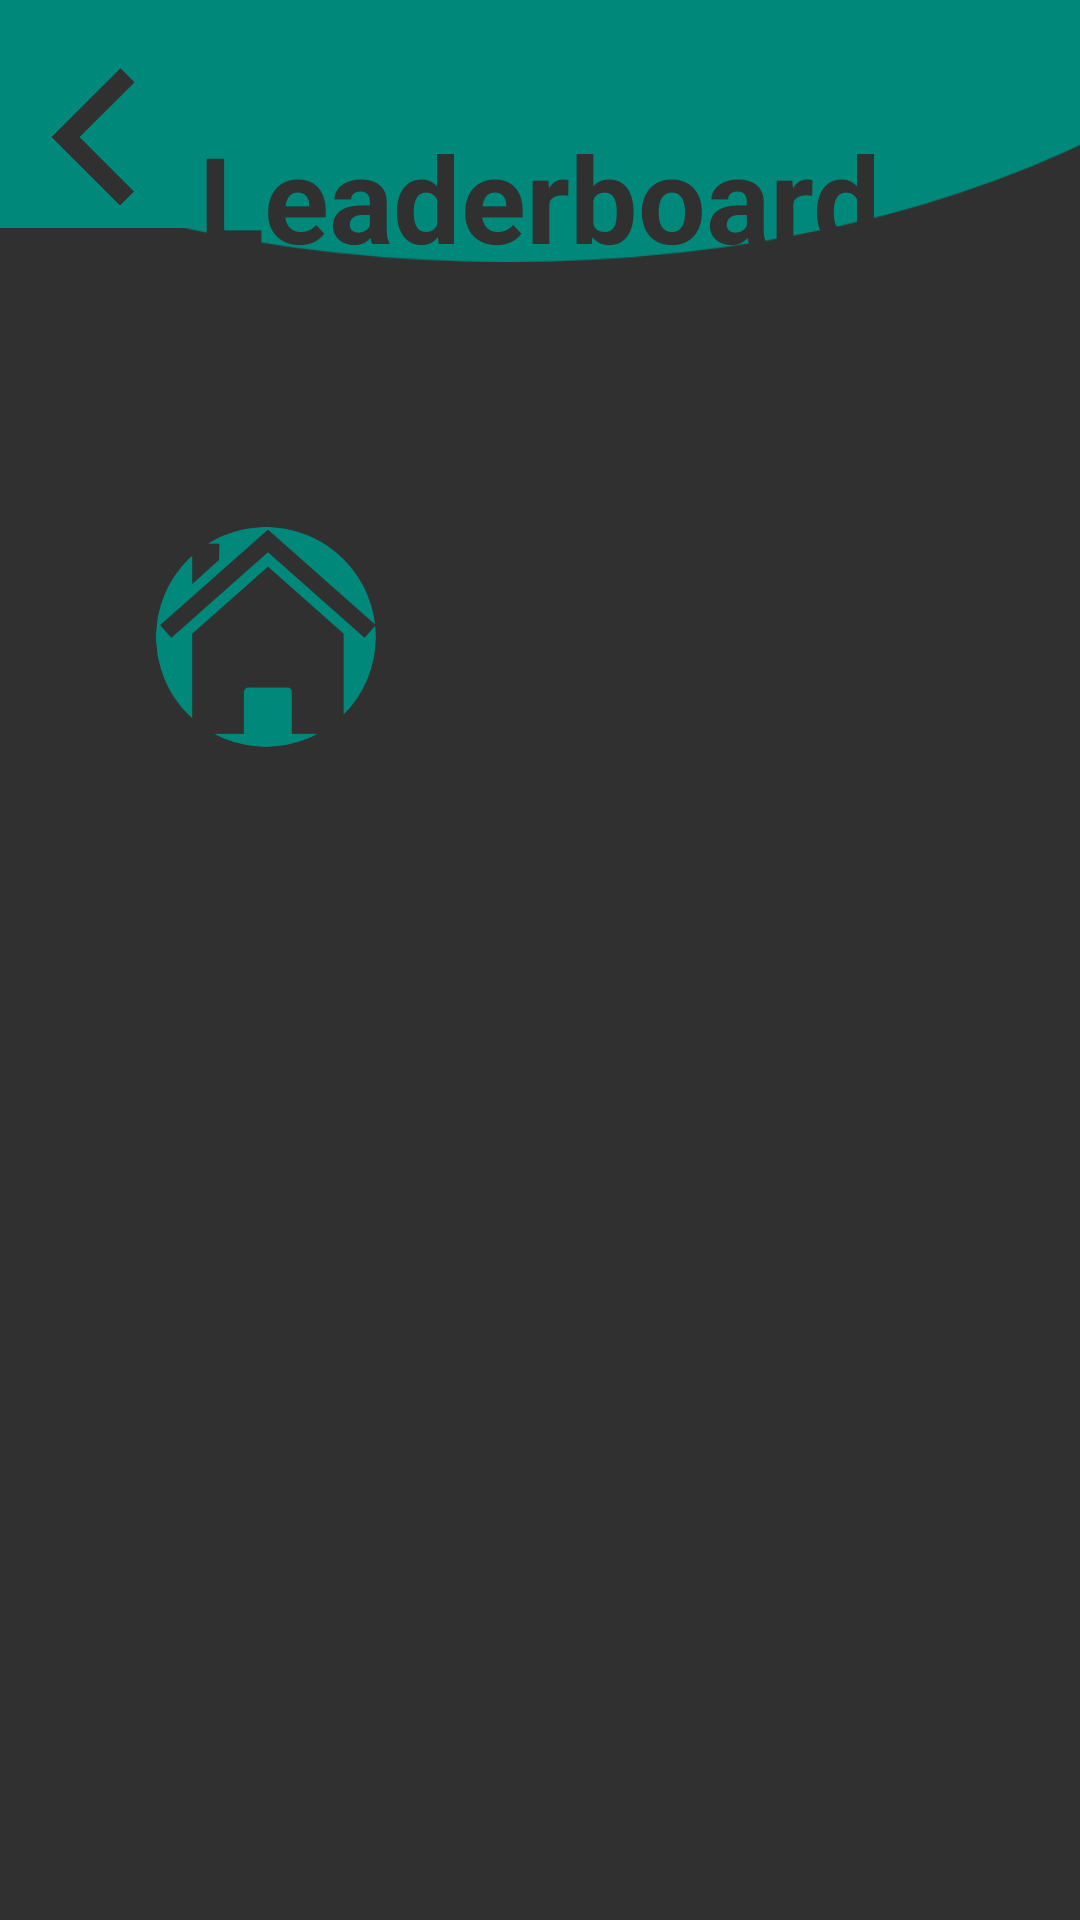

Icons on this 1080px×1920px Android screen, each with the point to tap as [x,y]:
home leaderboard: [266,637]
